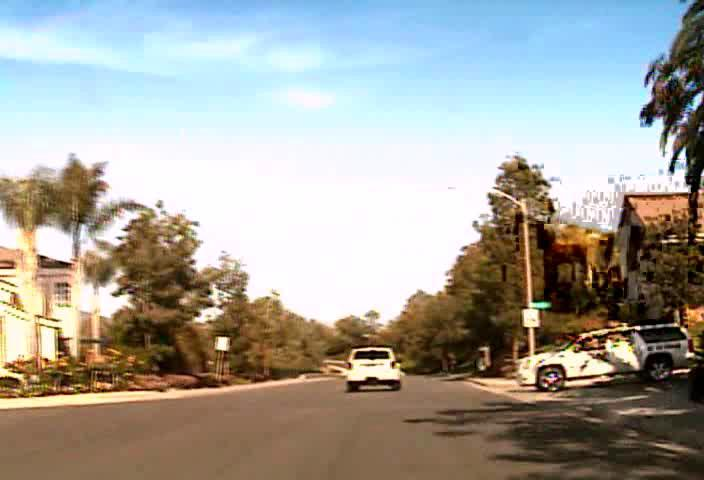speedLimitUrdbl: (521, 308, 539, 327)
